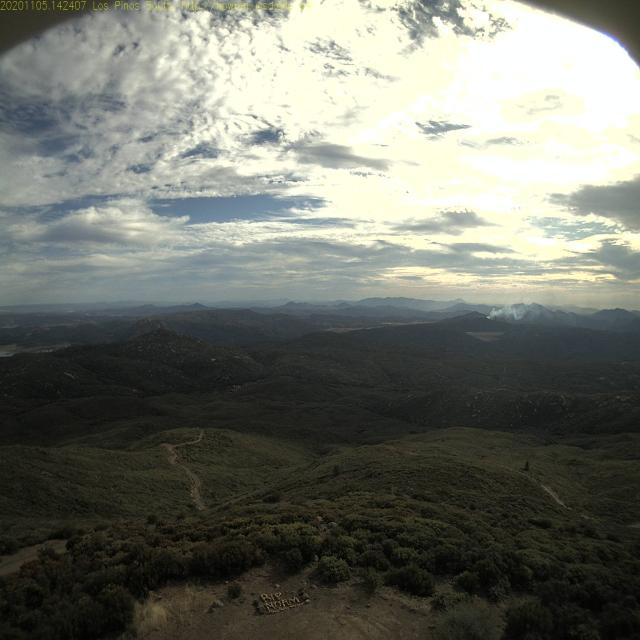smoke: (524, 290, 582, 322), (501, 301, 522, 321), (484, 306, 500, 320)
